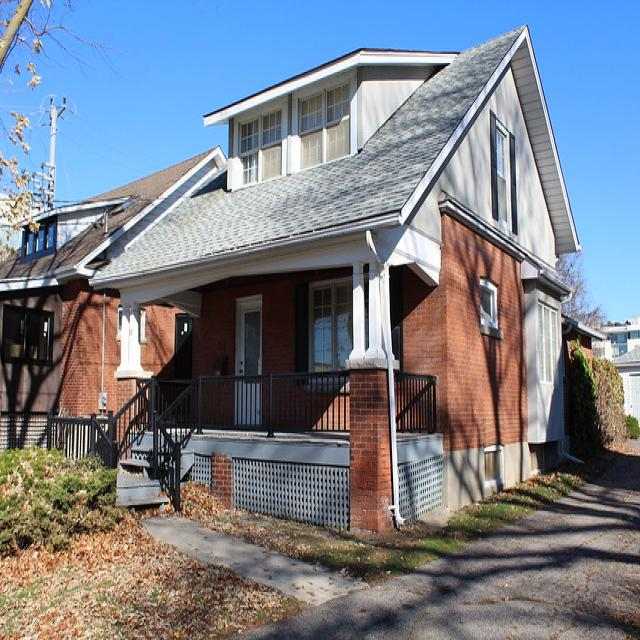building: (87, 19, 582, 545)
